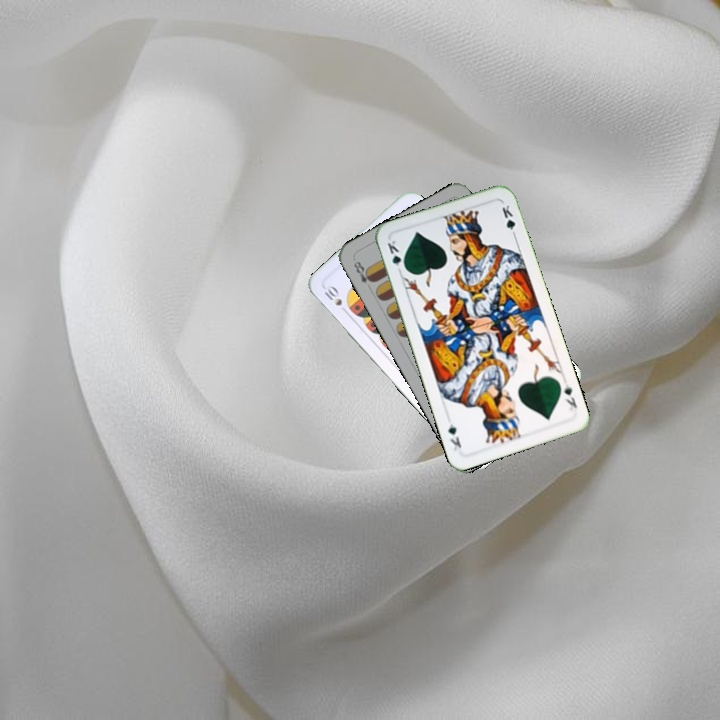E8: (350, 257, 377, 286)
GK: (383, 236, 409, 276), (560, 380, 580, 413)
S10: (320, 281, 351, 317)
